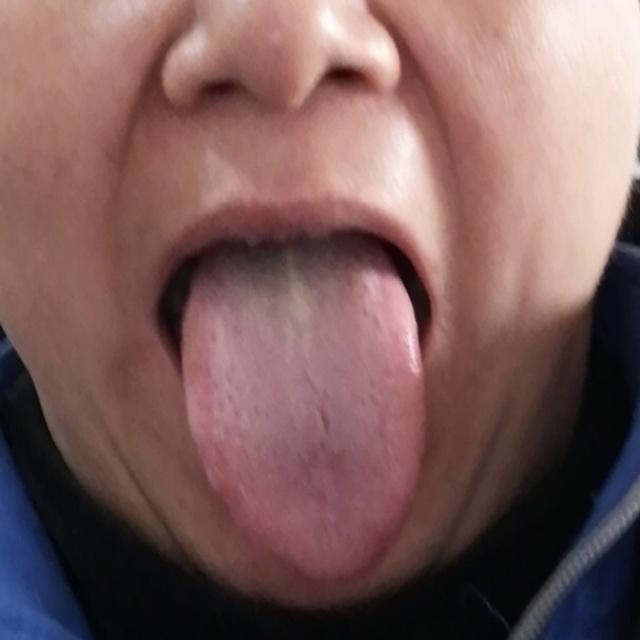baitaishe: (179, 266, 429, 587)
